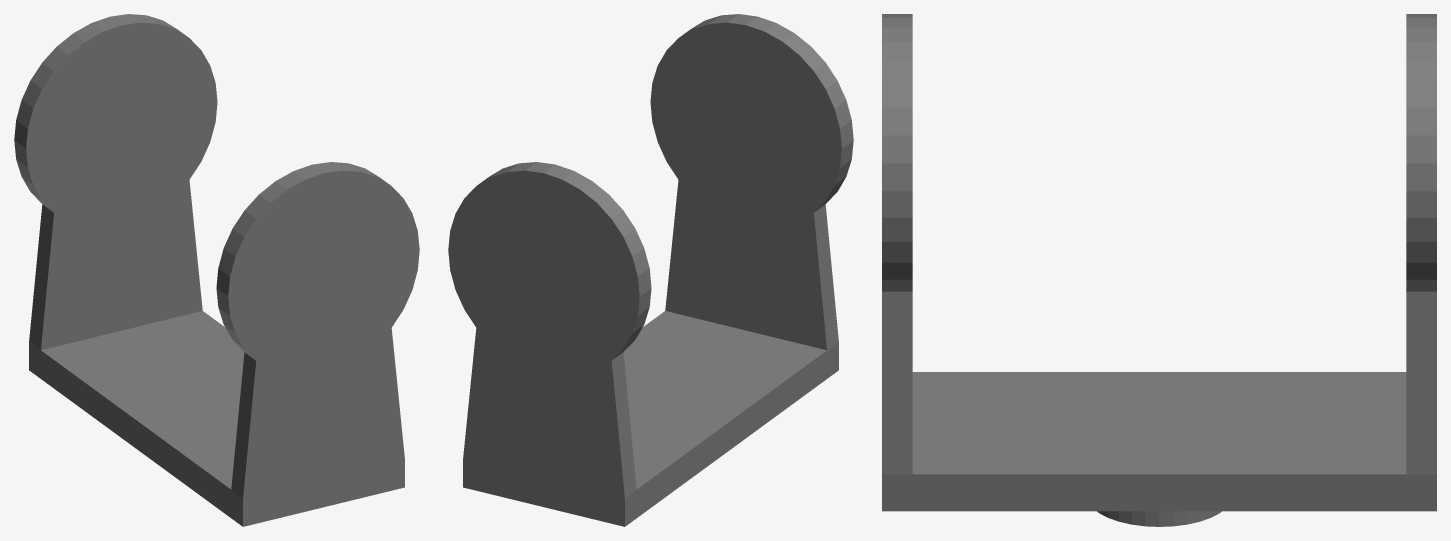
Rendered from neck_yaw.dae.
The picture shows the model from 3 angles, left to right: view 1: azimuth 30°, elevation 25°; view 2: azimuth 150°, elevation 25°; view 3: azimuth 270°, elevation 25°; orthographic projection. The views are drawn at different scales.
Visible parts, largest first — view 1: 立方体; view 2: 立方体; view 3: 立方体.
Part boxes in pixels (x1,y1,x2,y2): 立方体: [14, 14, 419, 526]; 立方体: [448, 14, 853, 526]; 立方体: [882, 14, 1436, 526].
Size of the model in its own units: 0.0165 by 0.0319 by 0.0297.
1 material, 1 textured.
